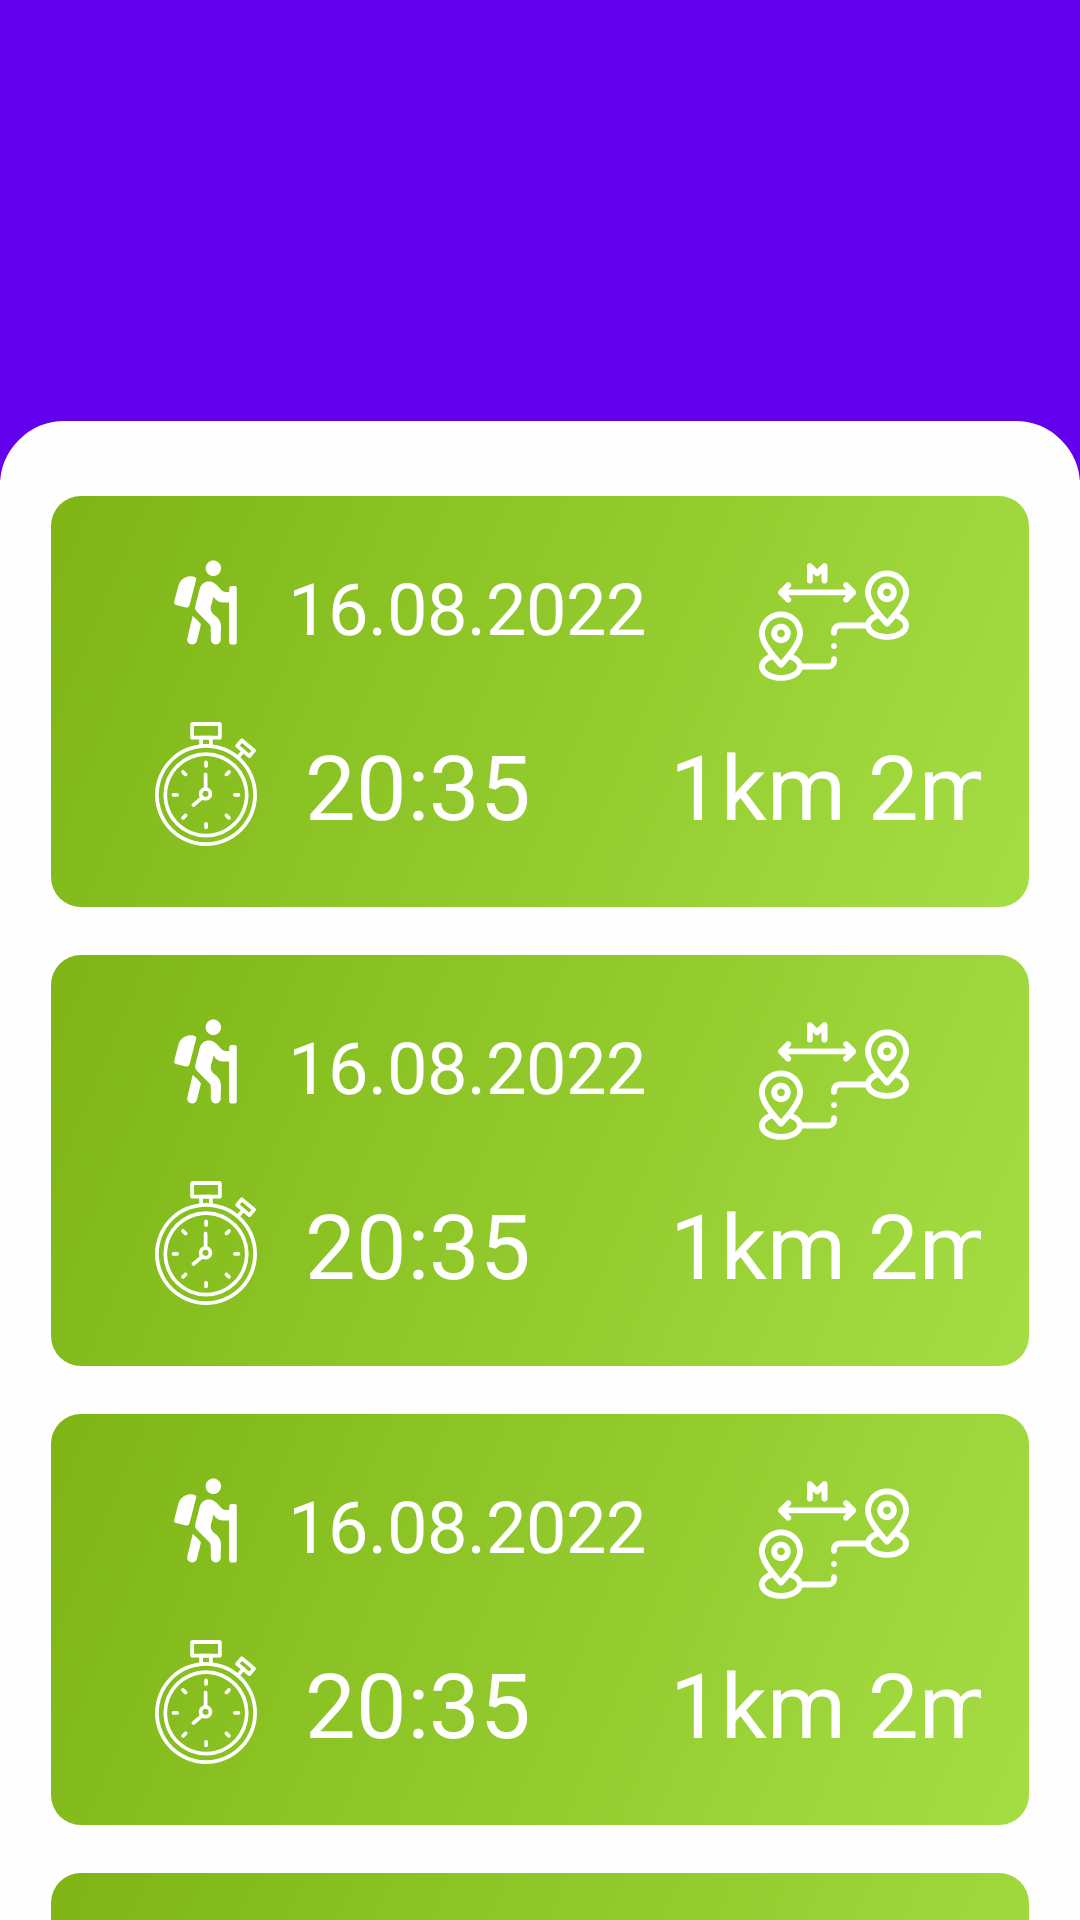

Where to tap for icons on this 1080×1920 app screen, as (x,y):
distance icon: (834,622), (834,1081), (834,1540)
icon clock: (206,784), (206,1243), (206,1702)
